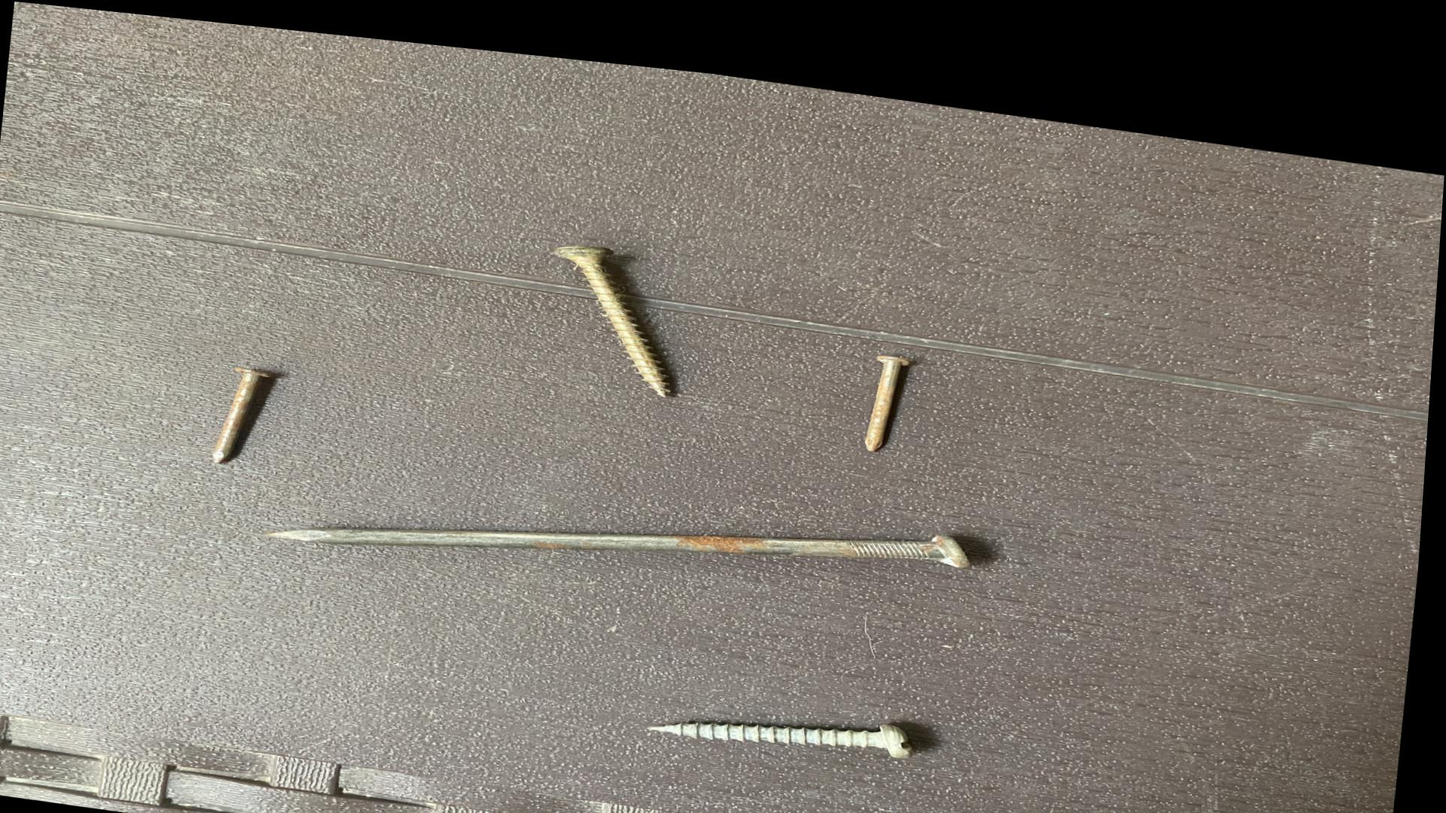nail: (257, 421, 1016, 648), (775, 308, 968, 452), (165, 347, 309, 477)
screw: (511, 211, 721, 393), (633, 661, 977, 767)
